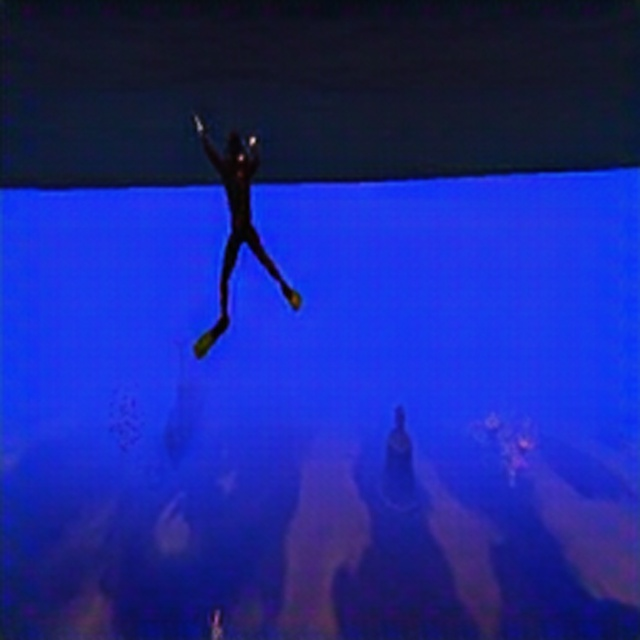diver: (192, 114, 303, 338)
